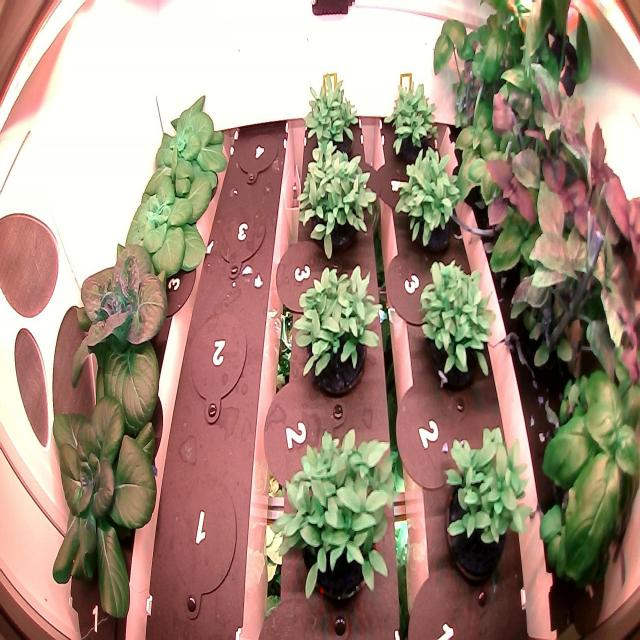empty_pod: (156, 470, 249, 620), (182, 304, 257, 428), (210, 187, 270, 281), (228, 116, 284, 186)
young: (42, 363, 164, 629), (61, 222, 177, 449), (122, 164, 217, 292), (135, 86, 231, 200)
